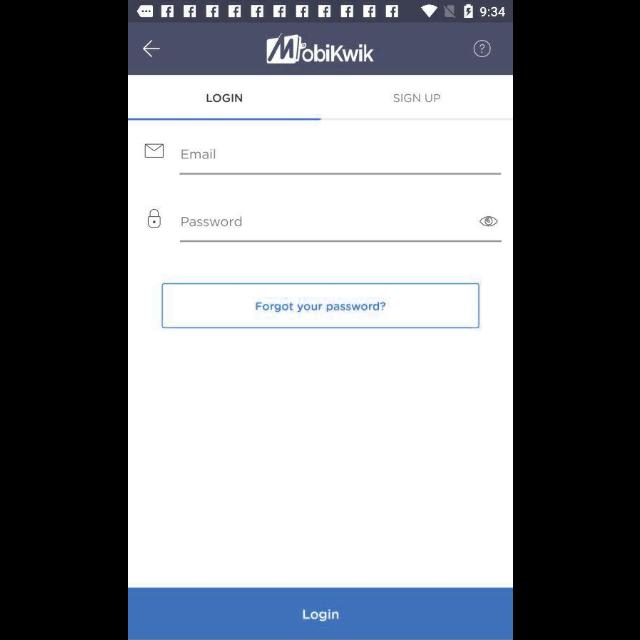icon: (473, 40, 491, 58), (142, 42, 160, 58), (144, 144, 164, 158), (148, 210, 160, 228), (479, 217, 497, 227)
image: (266, 34, 372, 64)
input: (180, 215, 500, 242), (179, 149, 501, 175)
multitab: (128, 76, 512, 122)
text: (181, 216, 241, 228), (392, 95, 440, 104), (181, 149, 215, 159), (206, 95, 242, 104)
textbutton: (128, 588, 512, 640), (161, 284, 479, 328)
toolbar: (128, 24, 512, 76)
uppertaskbar: (128, 1, 512, 23)
